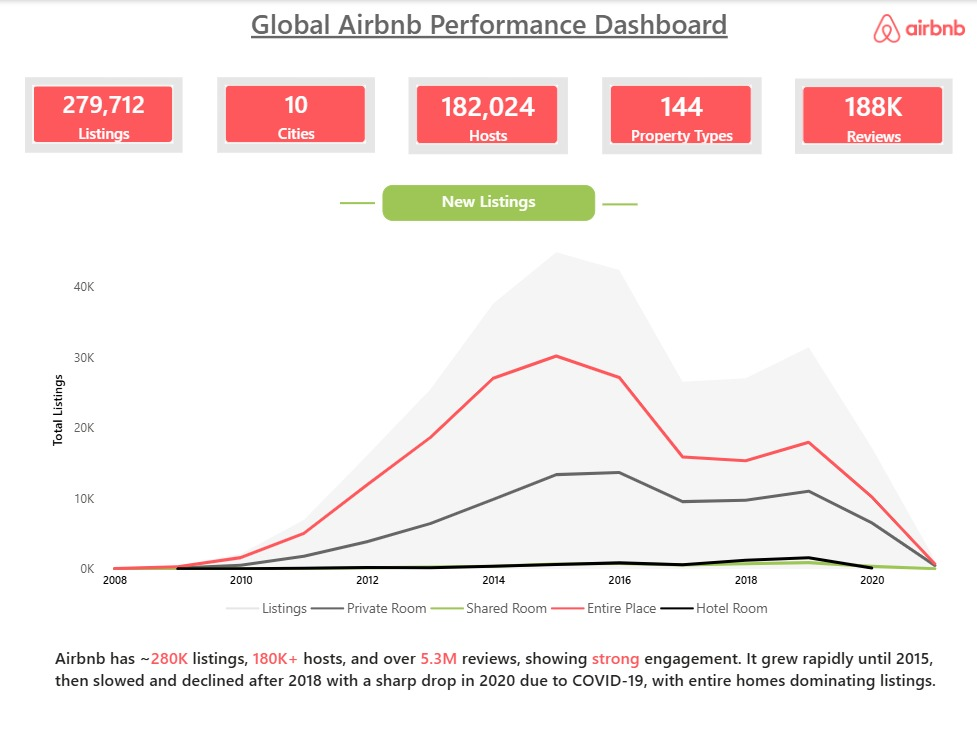

This screenshot's page, from the dashboard's own definition file:
{"tool":"powerbi","page":{"name":"Overview","canvas":[960,720],"ordinal":0},"visuals":[{"type":"textbox","box":[237.7,0,484.7,55.2],"z":0},{"type":"image","box":[857.7,12.3,89.6,31.9],"z":1000},{"type":"cardVisual","fields":{"Data":["Count(Listings.city)"]},"box":[213.5,76.3,154.6,73.6],"z":2000},{"type":"cardVisual","fields":{"Data":["CountNonNull(Listings.review_scores_rating)"]},"box":[781,77.5,154.6,73.6],"z":3000},{"type":"cardVisual","fields":{"Data":["Count(Listings.property_type)"]},"box":[591.4,76.3,155.8,74.8],"z":4000},{"type":"cardVisual","fields":{"Data":["Count(Listings.host_id)"]},"box":[401.8,76.3,155.8,74.8],"z":5000},{"type":"cardVisual","fields":{"Data":["CountNonNull(Listings.listing_id)"]},"box":[25.2,76.3,154.6,73.6],"z":6000},{"type":"lineChart","fields":{"Category":["Listings.host_since.Variation.Date Hierarchy.Year"],"Y":["CountNonNull(Listings.listing_id)","Listings.Private Room","Listings.Shared Room","Listings.Entire Place","Listings.Hotel Room"]},"box":[46.6,233.1,888.3,382.8],"z":7000},{"type":"textbox","box":[375.7,181.6,208.6,35.6],"z":8000},{"type":"shape","box":[333.7,165.6,34.4,67.5],"z":9000},{"type":"shape","box":[591.4,166.9,34.4,67.5],"z":10000},{"type":"textbox","box":[49.1,629.5,885.9,90.8],"z":11000}]}

Visuals, with their boxes in screenshot pixels (x1, y1, x2, y2), scaled from the page's 960x720 canvas onto the 977x733 screenshot:
textbox: bbox=(242, 0, 735, 56)
image: bbox=(873, 13, 964, 45)
cardVisual - Count(Listings.city): bbox=(217, 78, 375, 153)
cardVisual - CountNonNull(Listings.review_scores_rating): bbox=(795, 79, 952, 154)
cardVisual - Count(Listings.property_type): bbox=(602, 78, 760, 154)
cardVisual - Count(Listings.host_id): bbox=(409, 78, 567, 154)
cardVisual - CountNonNull(Listings.listing_id): bbox=(26, 78, 183, 153)
lineChart - Listings.host_since.Variation.Date Hierarchy.Year x CountNonNull(Listings.listing_id): bbox=(47, 237, 951, 627)
textbox: bbox=(382, 185, 595, 221)
shape: bbox=(340, 169, 375, 237)
shape: bbox=(602, 170, 637, 239)
textbox: bbox=(50, 641, 952, 732)
